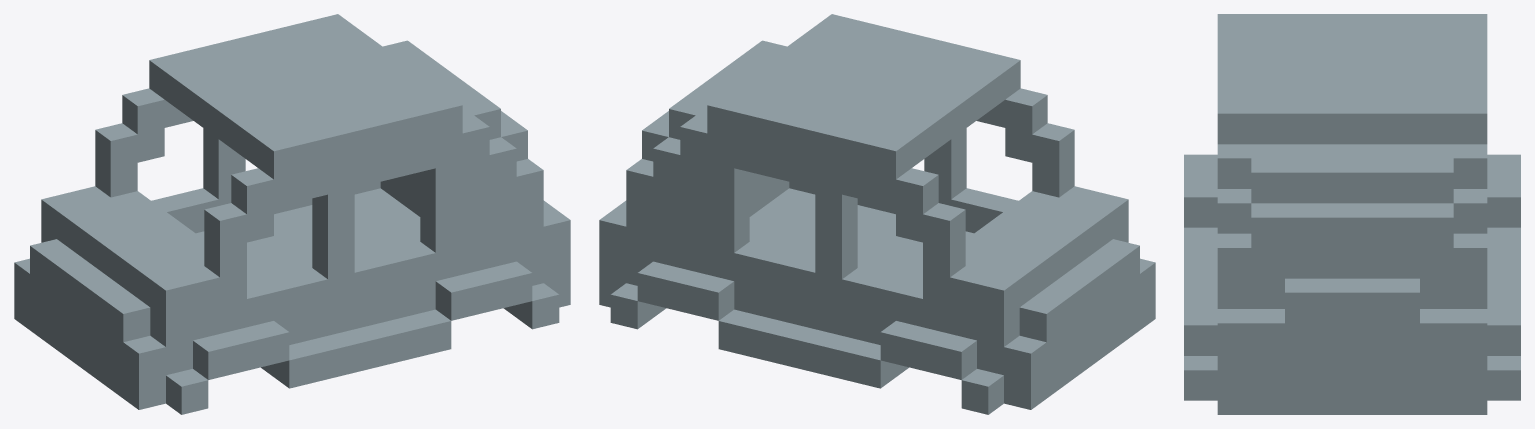
The model's file is frame.obj.
3 views of the same model, side by side, from view 1: azimuth 30°, elevation 25°; view 2: azimuth 150°, elevation 25°; view 3: azimuth 270°, elevation 25° (orthographic). The views are drawn at different scales.
Size of the model in its own units: 1.6 by 0.8 by 1.
